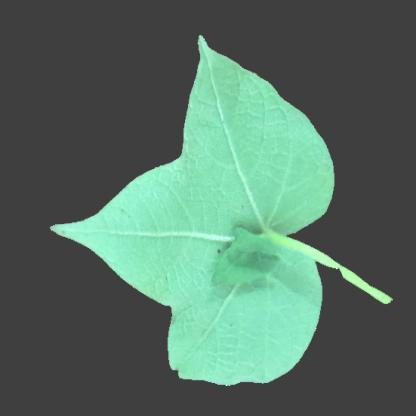curl_stage2: (199, 78, 275, 212), (174, 295, 290, 369), (112, 200, 202, 285), (274, 118, 329, 218)
leaf_enation: (202, 214, 292, 295)
